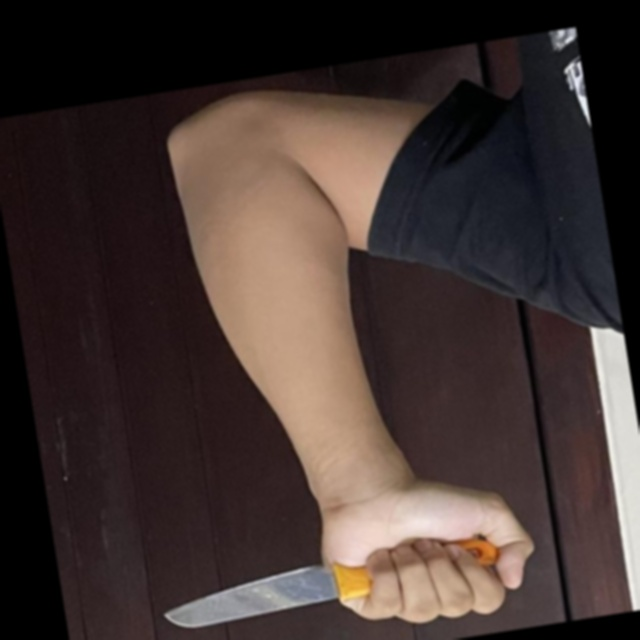Sharp-Object: (158, 530, 509, 636)
